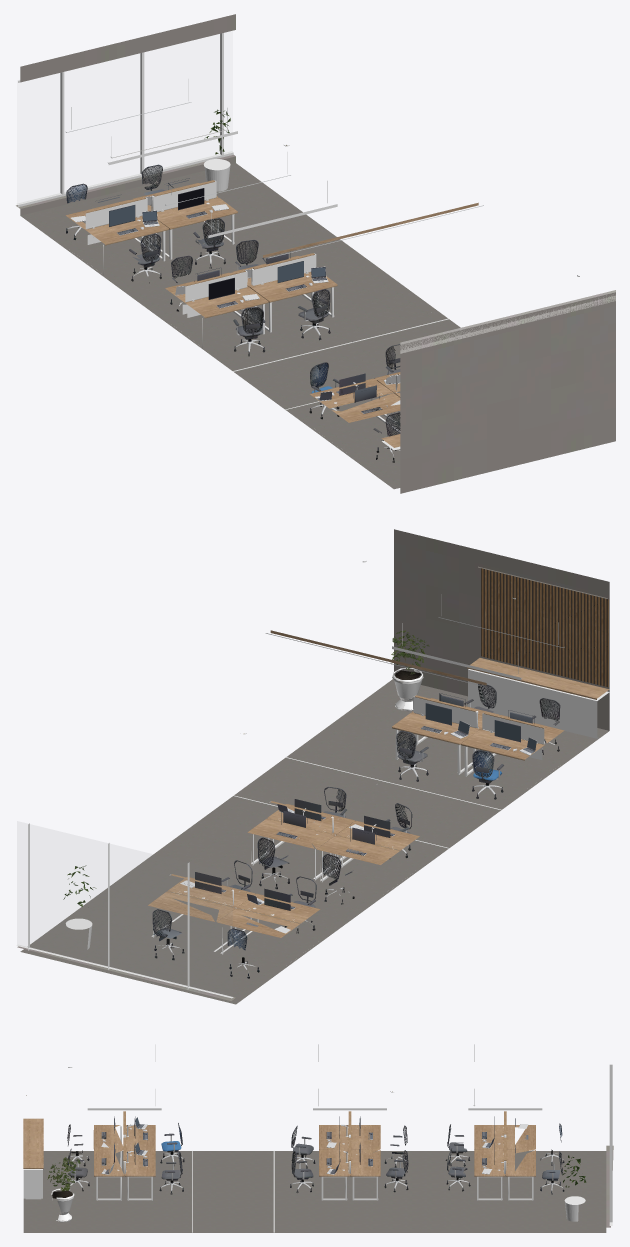
File: z-open_c-lite.light.cfafc7a5.glb
3 views of the same model, one above another, from view 1: azimuth 30°, elevation 25°; view 2: azimuth 150°, elevation 25°; view 3: azimuth 270°, elevation 25° (orthographic). The views are drawn at different scales.
Visible parts, largest first — view 1: open_c_carpet, open_c_plaster, open_c_satin, open_c_oak, open_c_fx, open_c_emit, open_c_metal_satin; view 2: open_c_carpet, open_c_plaster, open_c_oak, open_c_proxy_slat, open_c_satin, open_c_fx, open_c_emit, open_c_metal_satin, open_c_veg_atlas; view 3: open_c_carpet, open_c_oak, open_c_satin, open_c_fx, open_c_metal_satin, open_c_veg_atlas, open_c_plaster.
Part boxes in pixels (box(x1,y1,x2,y2)): open_c_carpet: box(20, 163, 460, 489); open_c_plaster: box(16, 14, 615, 493); open_c_satin: box(16, 33, 579, 450); open_c_oak: box(66, 180, 478, 447); open_c_fx: box(66, 164, 400, 462); open_c_emit: box(66, 102, 483, 342); open_c_metal_satin: box(67, 145, 400, 456); open_c_carpet: box(20, 679, 608, 1004); open_c_plaster: box(17, 529, 609, 1000); open_c_oak: box(148, 630, 609, 937); open_c_proxy_slat: box(481, 568, 608, 687); open_c_satin: box(16, 561, 609, 998); open_c_fx: box(152, 684, 560, 978); open_c_emit: box(265, 566, 607, 857); open_c_metal_satin: box(158, 702, 554, 970); open_c_veg_atlas: box(63, 630, 429, 906); open_c_carpet: box(23, 1151, 606, 1232); open_c_oak: box(23, 1111, 535, 1176); open_c_satin: box(23, 1044, 612, 1232); open_c_fx: box(65, 1116, 564, 1194); open_c_metal_satin: box(66, 1091, 563, 1190); open_c_veg_atlas: box(47, 1155, 586, 1198); open_c_plaster: box(606, 1145, 613, 1227).
Bounding box in the file's own units: 5 × 3.35 × 15.5.
10 materials, 6 textured.
